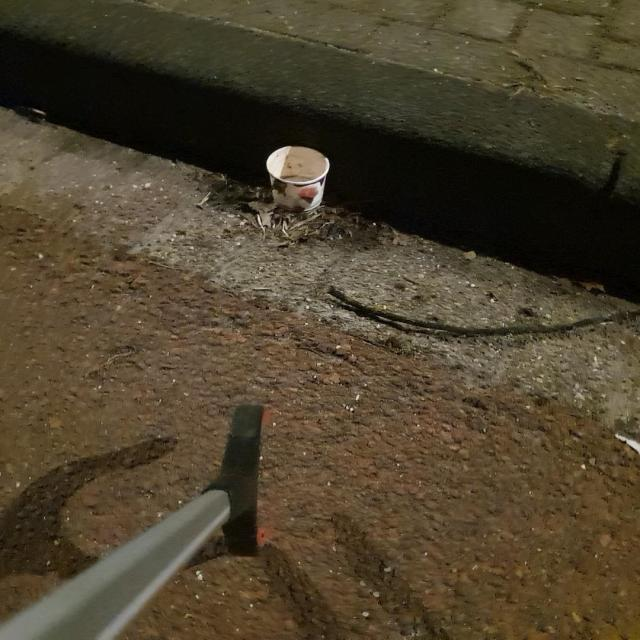Paper: (264, 142, 331, 214)
